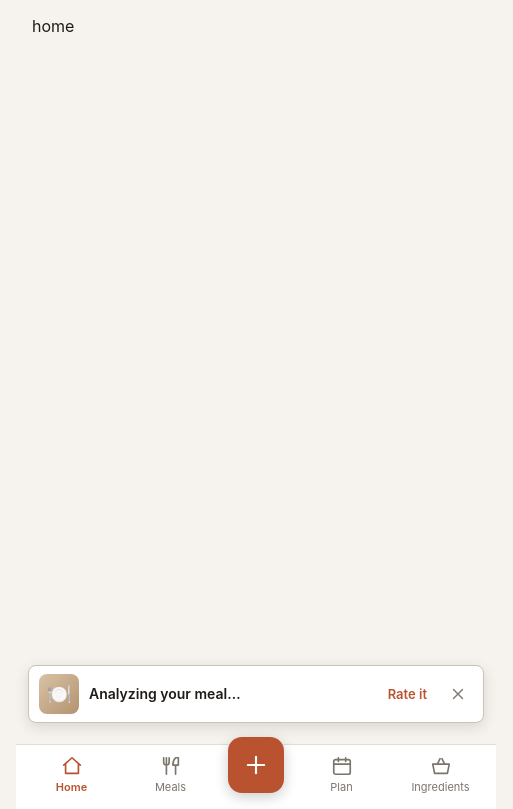
Test: PendingBanner › discards the photo from the banner, and Undo brings it back
This screenshot has width=513, height=809.
Expected: the link "🍽️ Analyzing your meal… Rate it" is shown, [28,665,484,723]
Step 1. Click the button named "Discard this photo" → [458, 694], box [436,672,480,716]
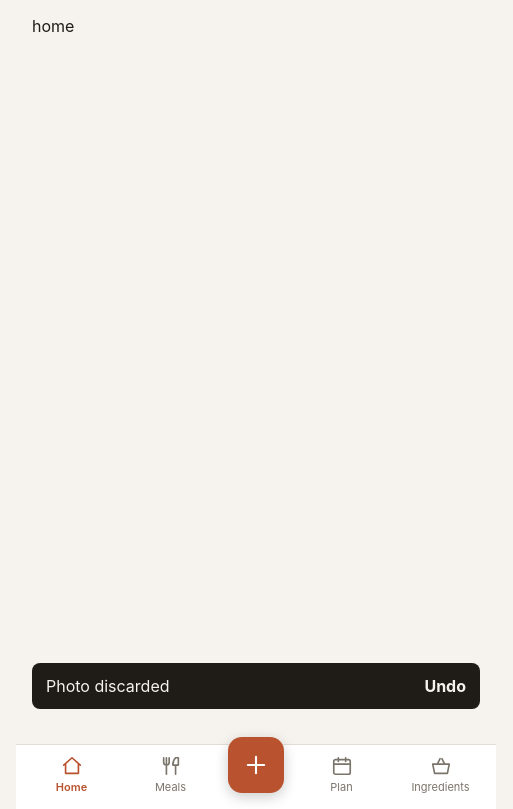
Expected: the text "home" is shown, [32,16,74,36]
Now the link "Analyzing your meal…" is gone
Step 2. Click the button "Undo" → [445, 686], box [424,675,466,697]
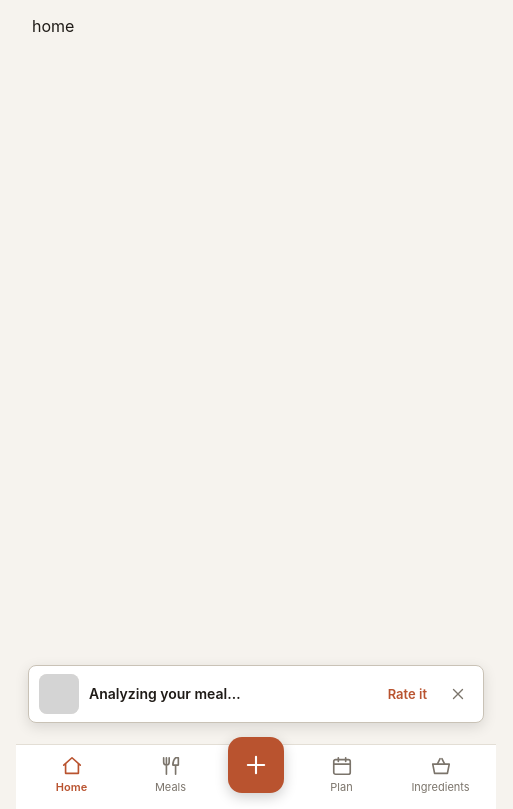
Now the link "Analyzing your meal… Rate it" is shown, box [28,665,484,723]
